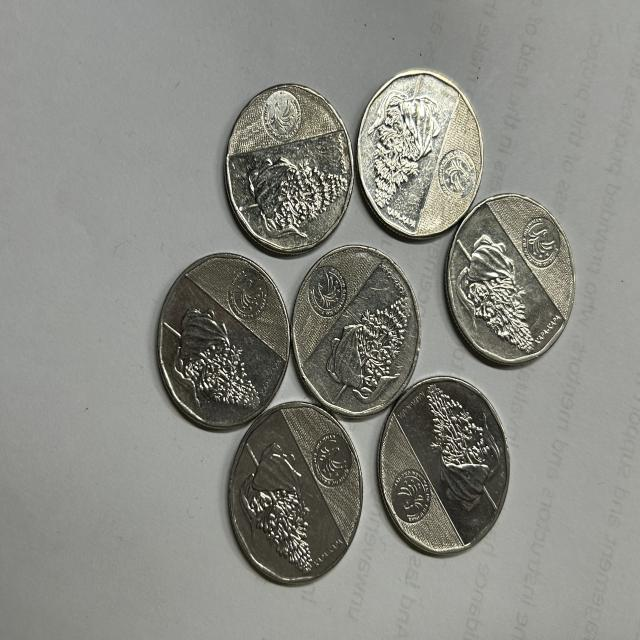10_New_Back: (163, 286, 260, 420), (416, 379, 501, 525), (454, 210, 535, 358), (234, 433, 311, 564), (232, 146, 336, 238), (334, 270, 409, 392), (366, 78, 431, 208)
